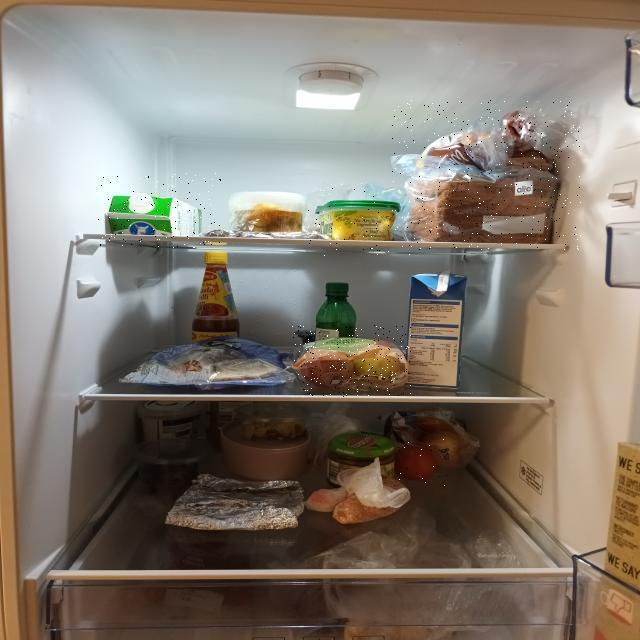Mantequilla: (308, 184, 411, 257)
